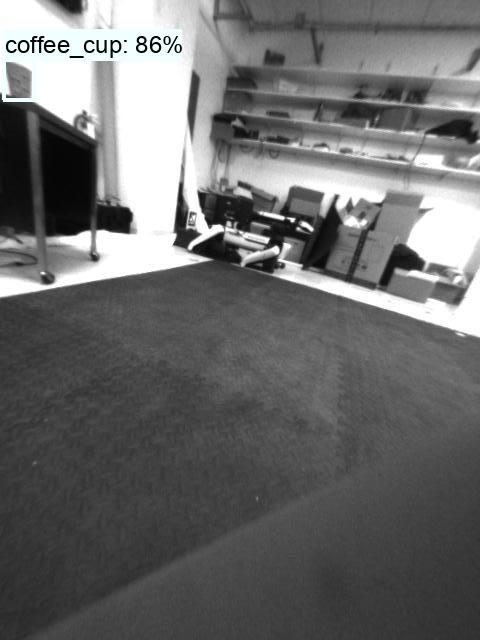coffee_cup: (3, 60, 34, 98)
